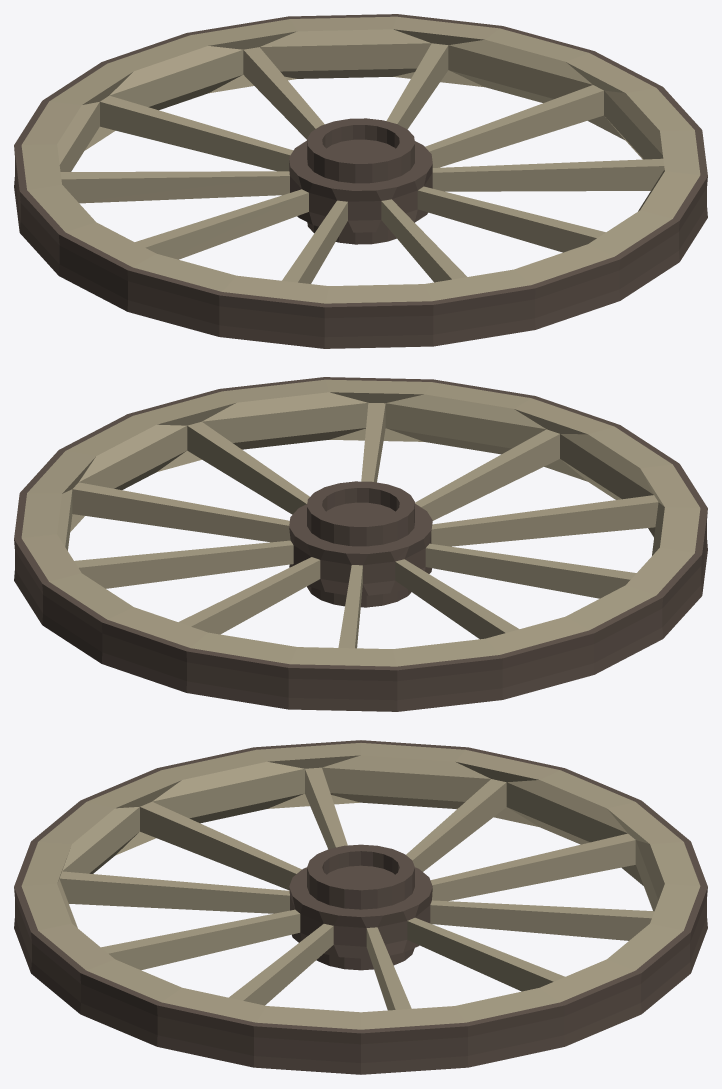
The model's file is 3Dobject_junk_wheel.fbx.
The picture shows the model from 3 angles, top to bottom: view 1: azimuth 30°, elevation 25°; view 2: azimuth 150°, elevation 25°; view 3: azimuth 270°, elevation 25°; orthographic projection.
Parts seen in each view (by area): view 1: pCylinder1; view 2: pCylinder1; view 3: pCylinder1.
Part boxes in pixels (box(x1,y1,x2,y2)): pCylinder1: box(14, 14, 707, 348); pCylinder1: box(14, 377, 707, 711); pCylinder1: box(14, 740, 707, 1074).
Size of the model in its own units: 1.74 by 0.2208 by 1.74.
